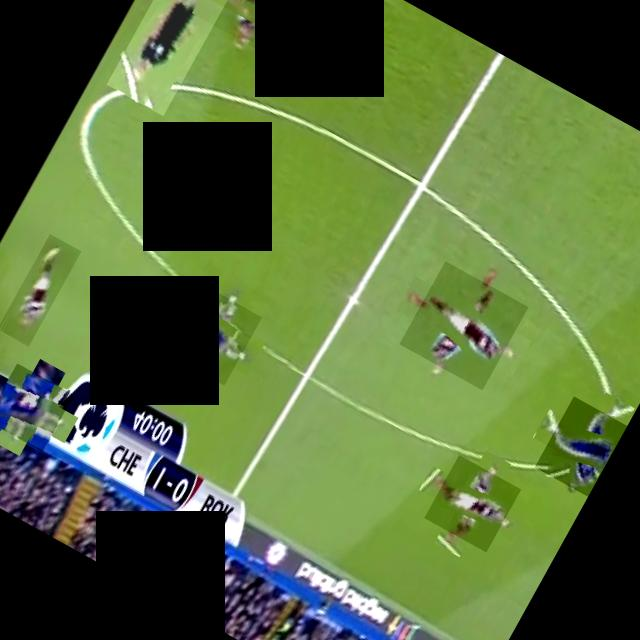referee: (106, 0, 240, 116)
soccer-player: (399, 262, 528, 391), (155, 279, 262, 386), (424, 456, 521, 552), (534, 397, 627, 497), (0, 234, 81, 347), (191, 0, 318, 59), (0, 363, 73, 451)
